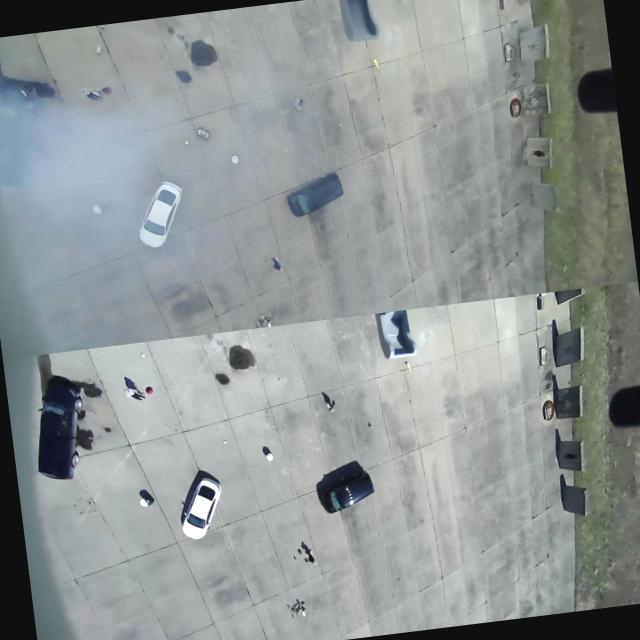car: (16, 364, 107, 494), (275, 158, 347, 225), (318, 454, 386, 514), (130, 180, 189, 249), (172, 470, 227, 541)
